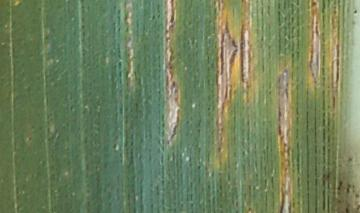tarspot: (350, 9, 360, 16)
